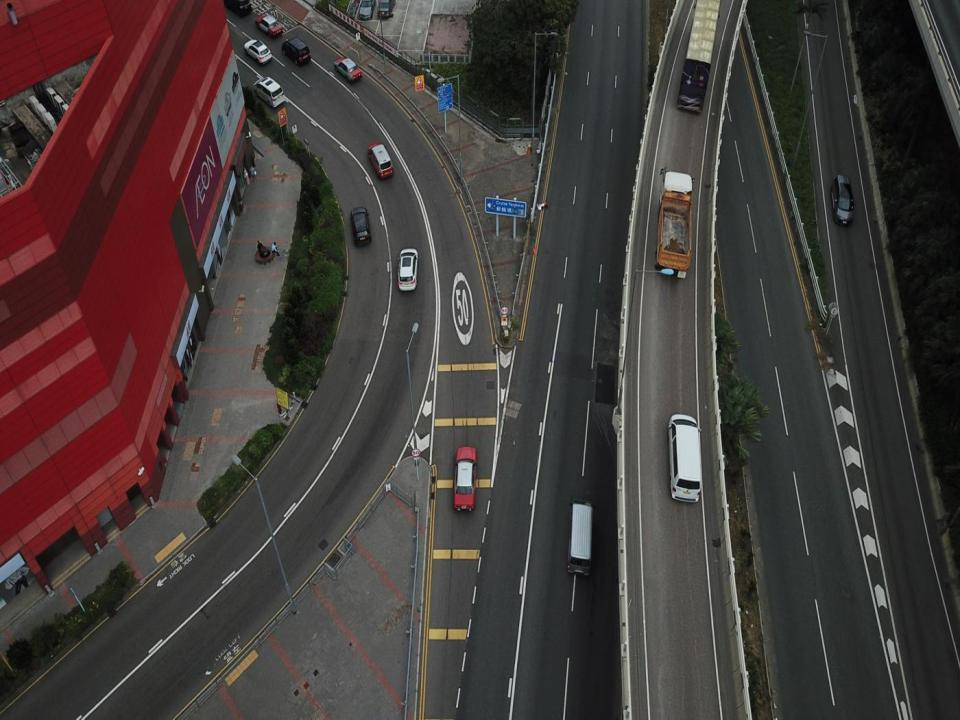bus: (676, 0, 722, 116)
car: (453, 443, 478, 513), (829, 171, 856, 227), (396, 246, 420, 293), (367, 141, 394, 182), (252, 75, 284, 106), (332, 55, 364, 84), (350, 206, 371, 250), (284, 34, 310, 66), (242, 36, 272, 63), (252, 12, 282, 36), (355, 0, 376, 20), (376, 0, 397, 20)
truck: (655, 164, 697, 278)
van: (664, 410, 706, 506), (566, 492, 595, 580)
